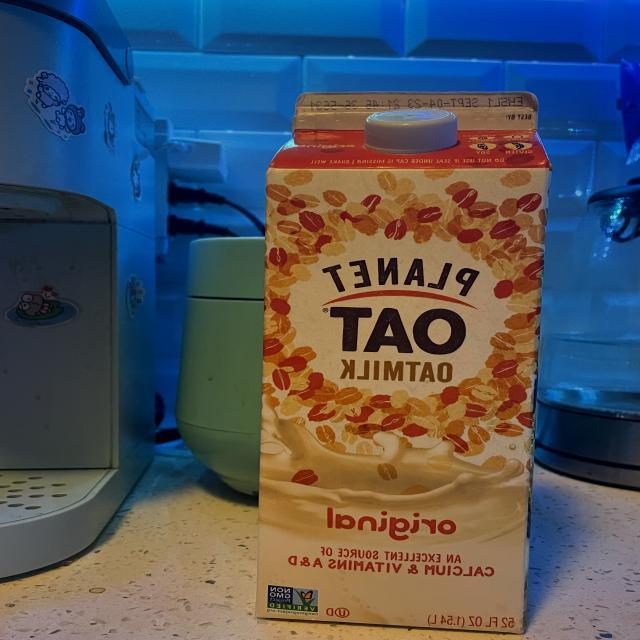Planet Oat Original: (241, 83, 558, 640)
